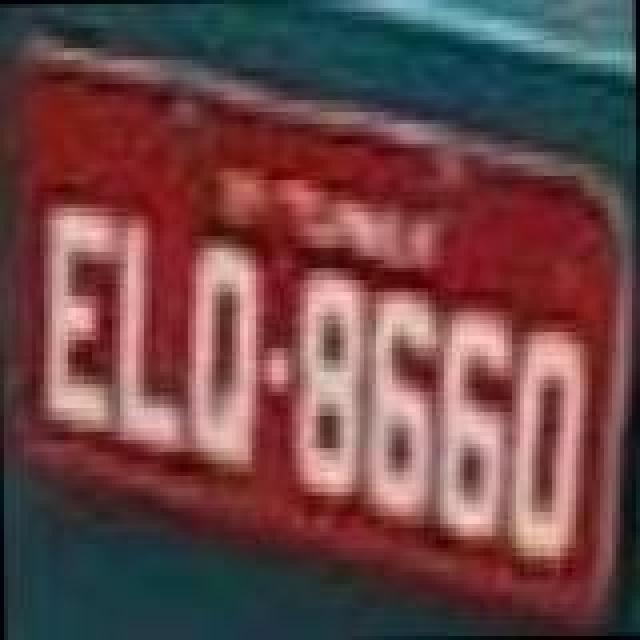6: (436, 304, 520, 548), (362, 284, 442, 536)
8: (290, 258, 370, 510)
E: (38, 202, 122, 438)
L: (114, 214, 190, 462)
O: (508, 320, 592, 568)
Q: (184, 236, 264, 480)
